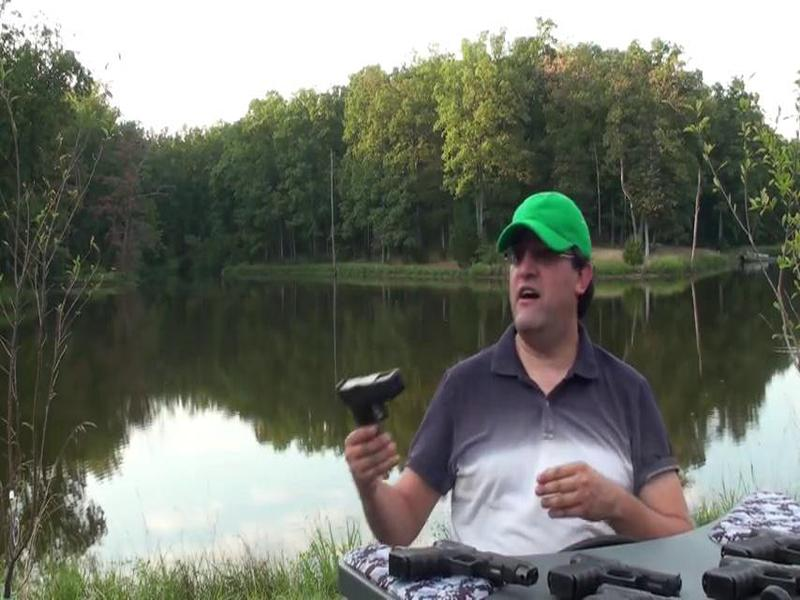Pistola: (335, 364, 432, 473)
